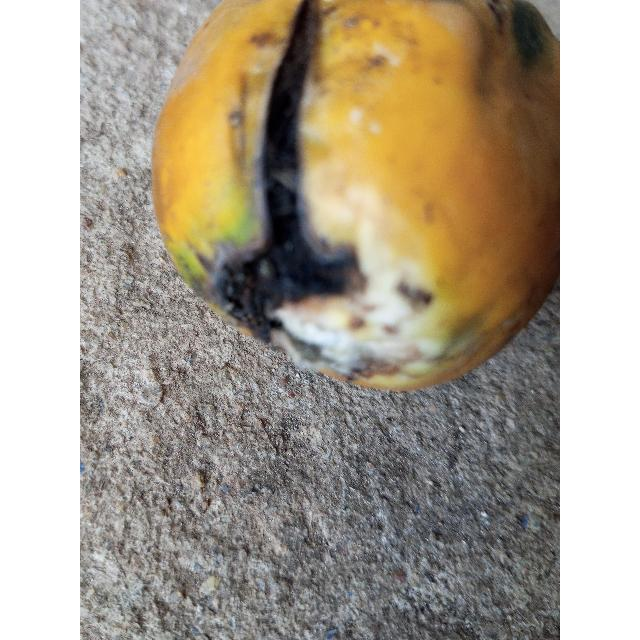damaged: (151, 0, 560, 395)
